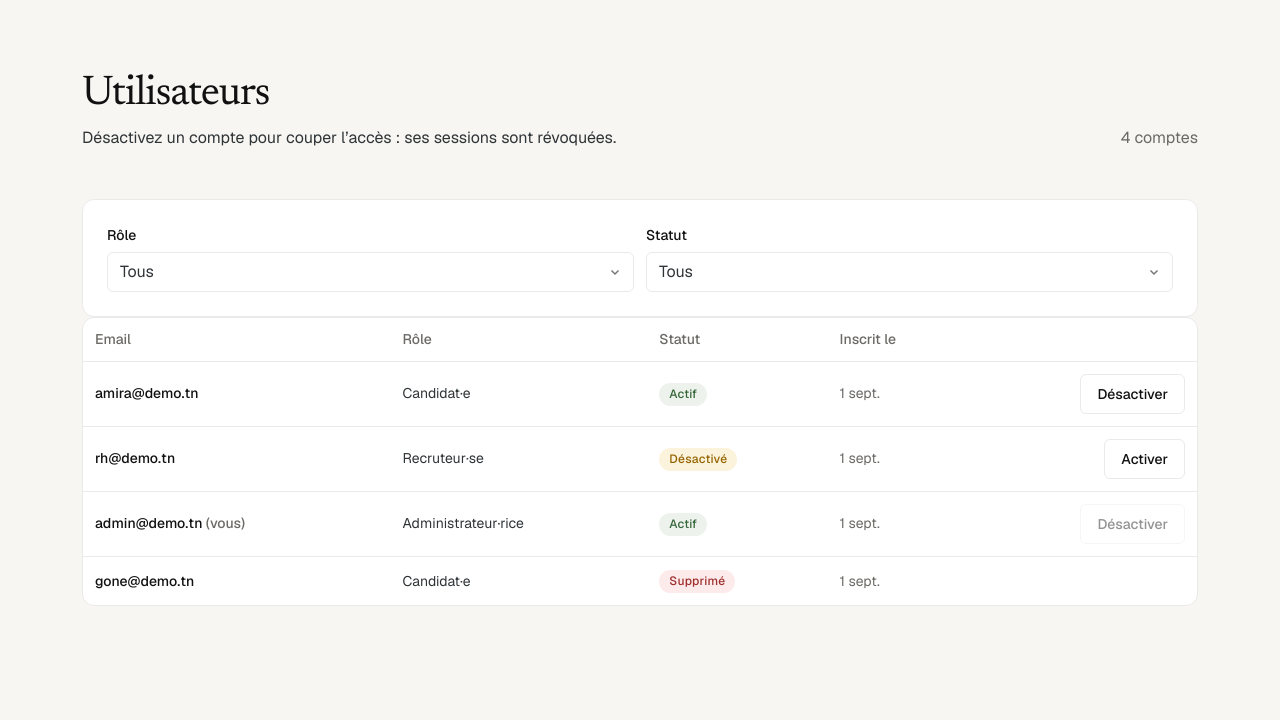
Scenario: admin users › shows the API message when the change is refused
Click the button "Désactiver" in the row of "amira@demo.tn": (1133, 394) [1080, 374, 1185, 414]
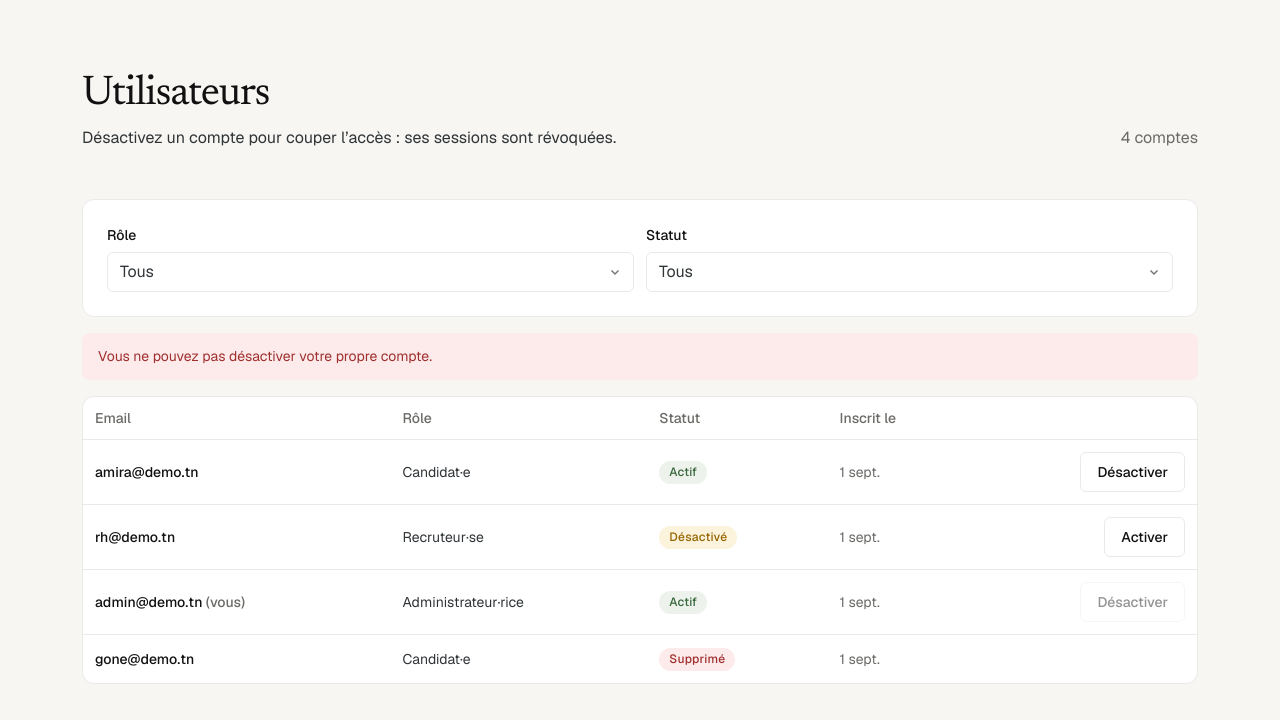
Now the message shows "propre compte", box [98, 347, 432, 365]
